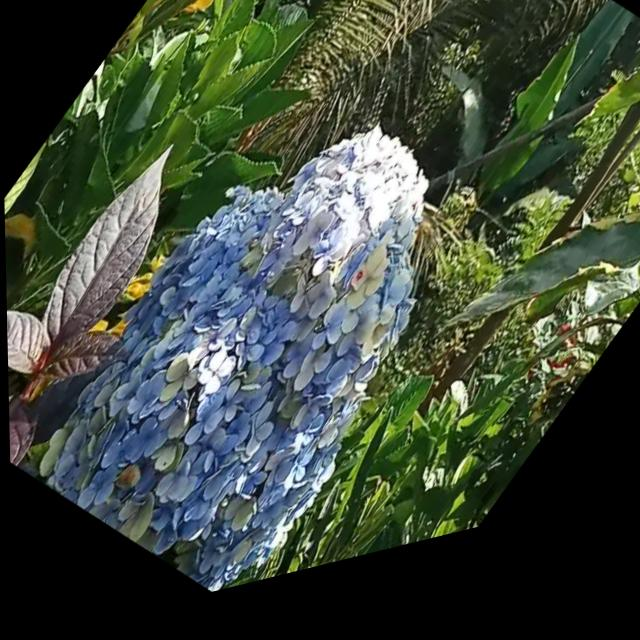Flower: (11, 44, 525, 638)
